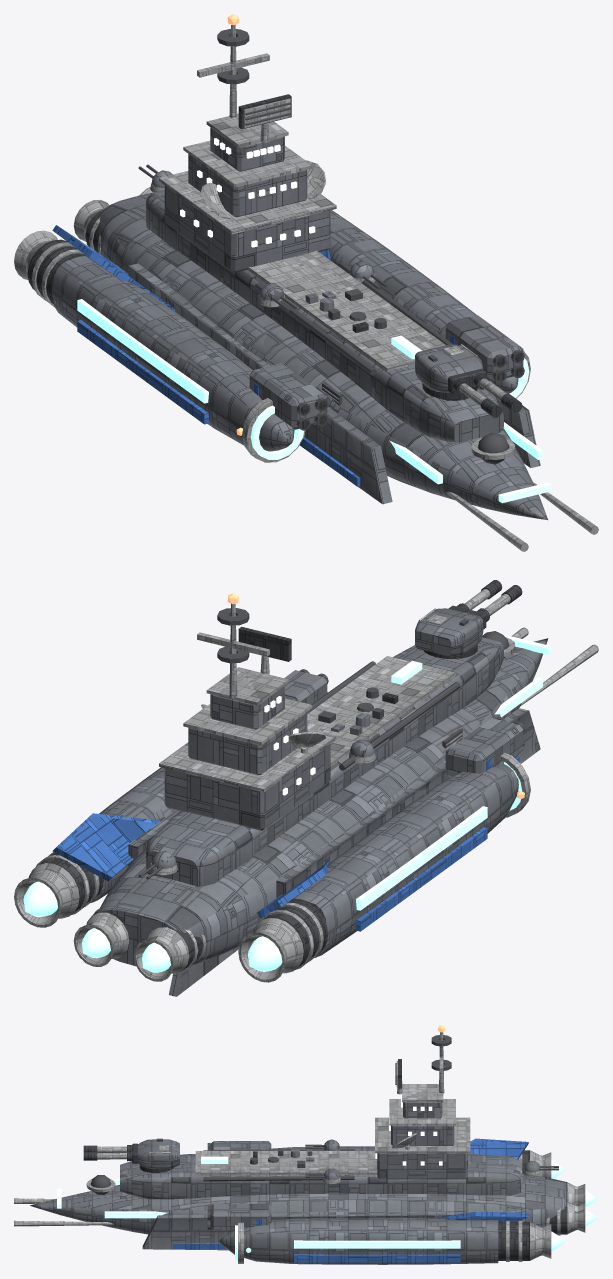
File: horizon_cruiser_wreck.glb
The picture shows the model from 3 angles, top to bottom: view 1: azimuth 30°, elevation 25°; view 2: azimuth 150°, elevation 25°; view 3: azimuth 270°, elevation 25°; orthographic projection. The views are drawn at different scales.
Parts seen in each view (by area): view 1: horizon_cruiser_wreck_04, horizon_cruiser_wreck_00, horizon_cruiser_wreck_05, horizon_cruiser_wreck_01, horizon_cruiser_wreck_10, horizon_cruiser_wreck_06, horizon_cruiser_wreck_11, horizon_cruiser_wreck_02, horizon_cruiser_wreck_07, horizon_cruiser_wreck_09, horizon_cruiser_wreck_08, horizon_cruiser_wreck_13 (+2 smaller); view 2: horizon_cruiser_wreck_00, horizon_cruiser_wreck_03, horizon_cruiser_wreck_04, horizon_cruiser_wreck_06, horizon_cruiser_wreck_10, horizon_cruiser_wreck_05, horizon_cruiser_wreck_11, horizon_cruiser_wreck_01, horizon_cruiser_wreck_09, horizon_cruiser_wreck_08, horizon_cruiser_wreck_07, horizon_cruiser_wreck_12 (+1 smaller); view 3: horizon_cruiser_wreck_08, horizon_cruiser_wreck_03, horizon_cruiser_wreck_02, horizon_cruiser_wreck_04, horizon_cruiser_wreck_07, horizon_cruiser_wreck_01, horizon_cruiser_wreck_13, horizon_cruiser_wreck_11, horizon_cruiser_wreck_10, horizon_cruiser_wreck_00, horizon_cruiser_wreck_09, horizon_cruiser_wreck_05.
Boxes of the visible parts, x1,y1,x2,y2 form: horizon_cruiser_wreck_04: (160,123,336,288); horizon_cruiser_wreck_00: (14,177,201,349); horizon_cruiser_wreck_05: (175,352,362,487); horizon_cruiser_wreck_01: (359,399,598,551); horizon_cruiser_wreck_10: (224,275,419,397); horizon_cruiser_wreck_06: (103,272,273,405); horizon_cruiser_wreck_11: (350,344,515,467); horizon_cruiser_wreck_02: (305,243,476,338); horizon_cruiser_wreck_07: (358,320,540,467); horizon_cruiser_wreck_09: (197,14,291,134); horizon_cruiser_wreck_08: (319,210,426,285); horizon_cruiser_wreck_13: (446,315,530,398); horizon_cruiser_wreck_00: (187,787,391,982); horizon_cruiser_wreck_03: (14,786,226,996); horizon_cruiser_wreck_04: (159,658,349,837); horizon_cruiser_wreck_06: (227,763,461,957); horizon_cruiser_wreck_10: (307,677,452,796); horizon_cruiser_wreck_05: (426,717,530,856); horizon_cruiser_wreck_11: (408,582,530,728); horizon_cruiser_wreck_01: (482,580,598,763); horizon_cruiser_wreck_09: (183,593,291,725); horizon_cruiser_wreck_08: (87,767,180,879); horizon_cruiser_wreck_07: (302,648,466,724); horizon_cruiser_wreck_12: (352,779,426,812); horizon_cruiser_wreck_08: (353,1169,493,1264); horizon_cruiser_wreck_03: (460,1161,598,1263); horizon_cruiser_wreck_02: (259,1163,383,1264); horizon_cruiser_wreck_04: (347,1084,470,1183); horizon_cruiser_wreck_07: (138,1154,261,1249); horizon_cruiser_wreck_01: (14,1145,146,1234); horizon_cruiser_wreck_13: (207,1203,301,1263); horizon_cruiser_wreck_11: (87,1138,215,1200); horizon_cruiser_wreck_10: (214,1139,349,1195); horizon_cruiser_wreck_00: (468,1117,566,1178); horizon_cruiser_wreck_09: (395,1025,455,1125); horizon_cruiser_wreck_05: (207,1141,323,1150).
Size of the model in its own units: 2.87 by 3.42 by 7.73.
Materials: 10 (5 with a texture image).
